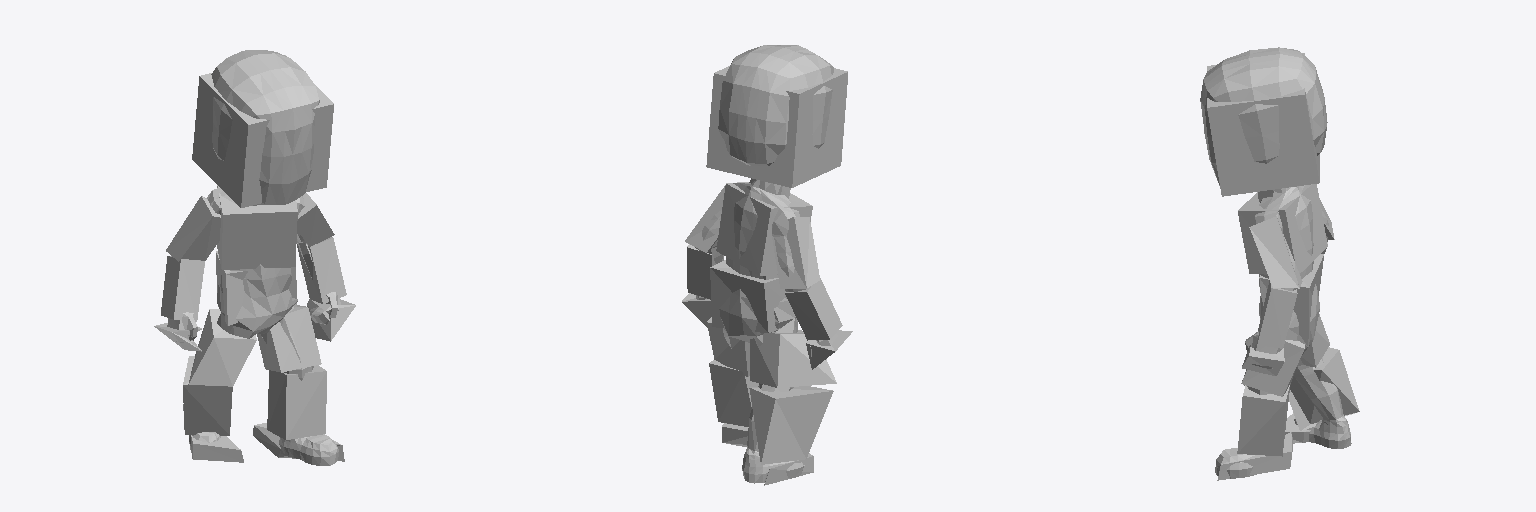
File: 43424_autosave.obj
3 renders of one model, left to right at view 1: azimuth 30°, elevation 25°; view 2: azimuth 150°, elevation 25°; view 3: azimuth 270°, elevation 25°, orthographic.
Visible parts, largest first — view 1: Cube_Cube.029, characterMedium_characterMedium.002; view 2: Cube_Cube.029, characterMedium_characterMedium.002; view 3: Cube_Cube.029, characterMedium_characterMedium.002.
Part boxes in pixels (x1,y1,x2,y2): Cube_Cube.029: (154, 55, 355, 462); characterMedium_characterMedium.002: (167, 50, 340, 465); Cube_Cube.029: (682, 66, 852, 485); characterMedium_characterMedium.002: (695, 45, 838, 483); Cube_Cube.029: (1207, 53, 1359, 480); characterMedium_characterMedium.002: (1200, 47, 1351, 478).
Bounding box in the file's own units: 1.65 × 3.72 × 1.34.